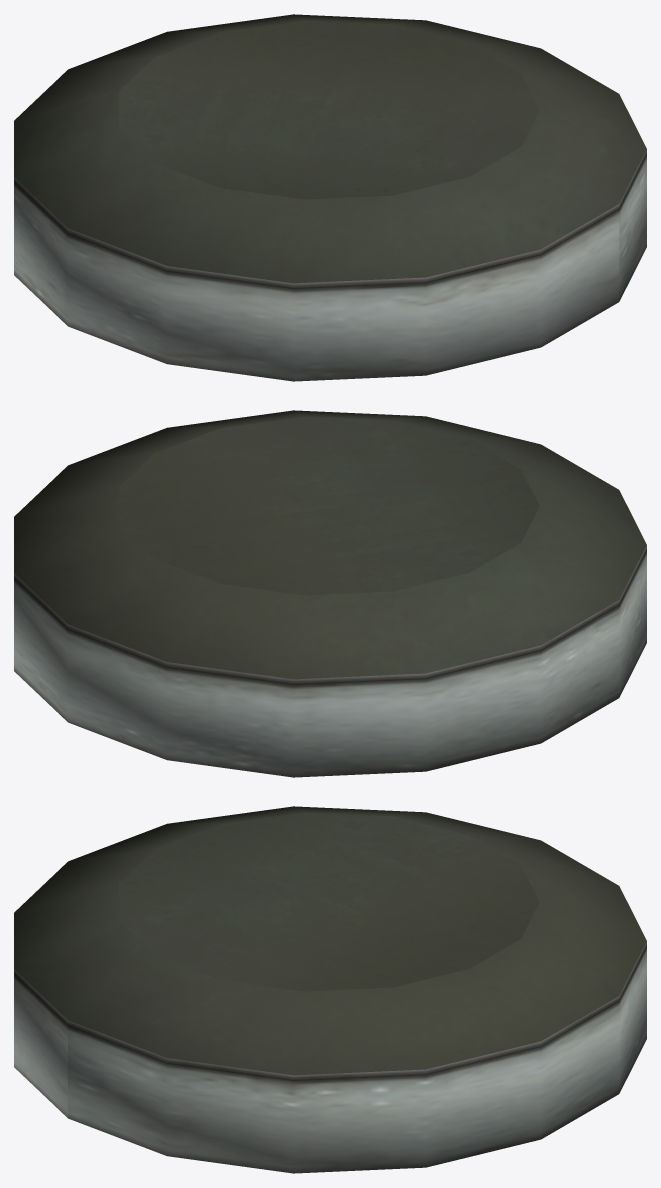
File: Disk.fbx
3 renders of one model, top to bottom at view 1: azimuth 30°, elevation 25°; view 2: azimuth 150°, elevation 25°; view 3: azimuth 270°, elevation 25°, orthographic.
Parts seen in each view (by area): view 1: Disk; view 2: Disk; view 3: Disk.
Part boxes in pixels (x1,y1,x2,y2): Disk: (14,14,646,381); Disk: (14,410,646,777); Disk: (14,806,646,1173).
Size of the model in its own units: 30.93 by 9.08 by 30.76.
